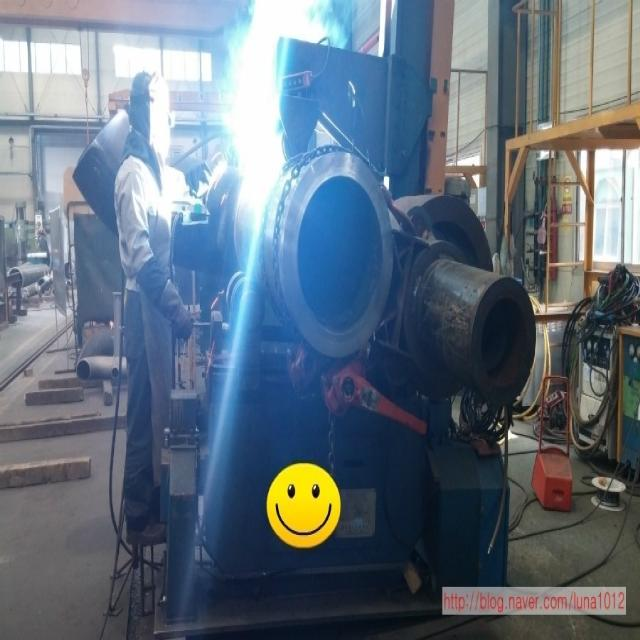welding: (236, 80, 282, 194)
